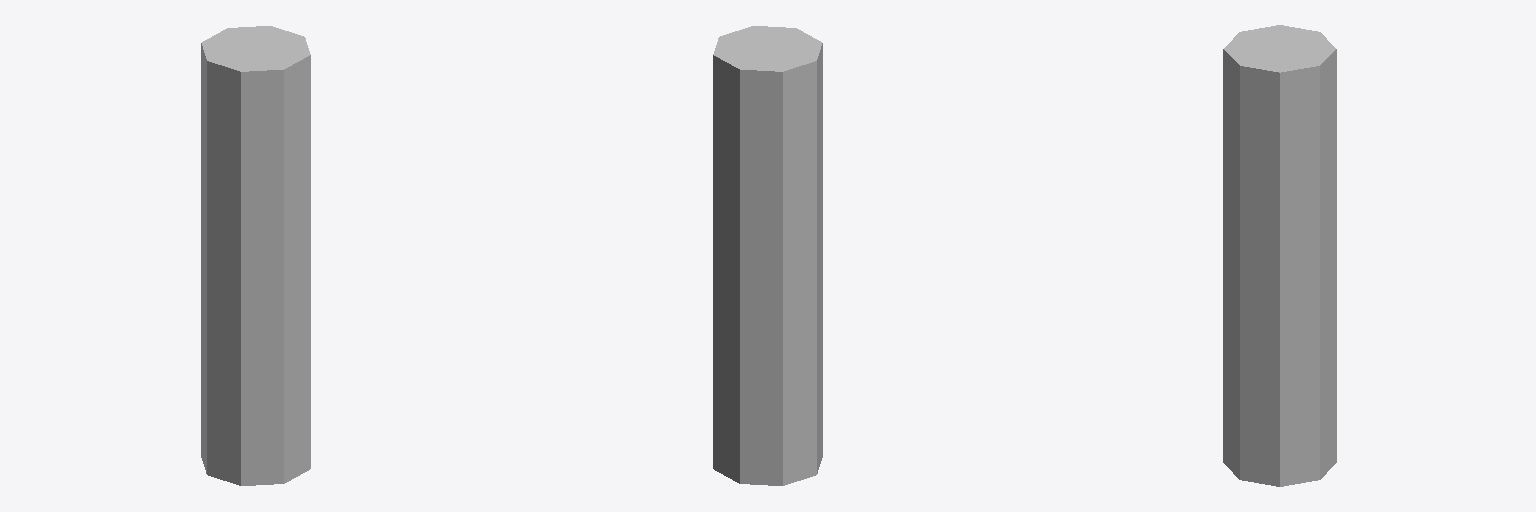
File: LightPole.obj
3 renders of one model, left to right at view 1: azimuth 30°, elevation 25°; view 2: azimuth 150°, elevation 25°; view 3: azimuth 270°, elevation 25°, orthographic.
Visible parts, largest first — view 1: LightPoleFuturistic PROPS; view 2: LightPoleFuturistic PROPS; view 3: LightPoleFuturistic PROPS.
Boxes of the visible parts, box(x1,y1,x2,y2) form: LightPoleFuturistic PROPS: box(201, 26, 310, 485); LightPoleFuturistic PROPS: box(713, 26, 822, 485); LightPoleFuturistic PROPS: box(1223, 25, 1336, 486).
Size of the model in its own units: 0.4953 by 2 by 0.4953.